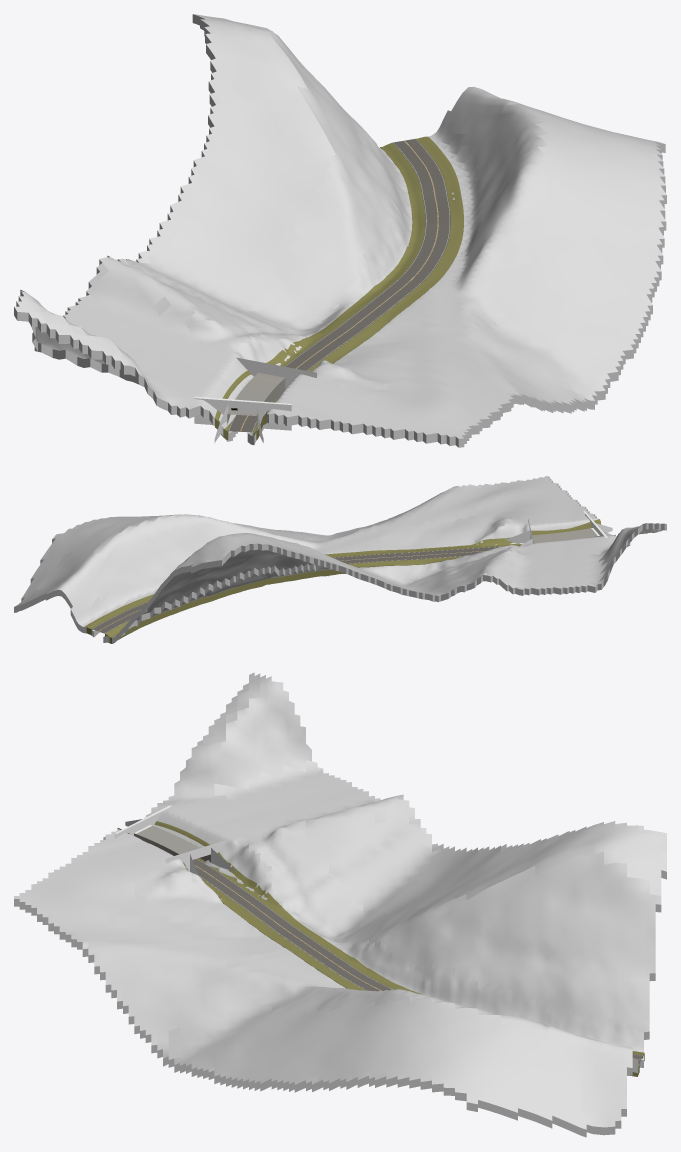
The model's file is conz_34.glb.
The picture shows the model from 3 angles, top to bottom: view 1: azimuth 30°, elevation 25°; view 2: azimuth 150°, elevation 25°; view 3: azimuth 270°, elevation 25°; orthographic projection. The views are drawn at different scales.
Visible parts, largest first — view 1: terrain34, road34, verge34R, verge34L, posts_upass34_21730, posts_upline34, posts_upass34_21700; view 2: terrain34, verge34R, verge34L, road34, posts_upline34, posts_upass34_21700, posts_upass34_21730; view 3: terrain34, road34, verge34R, verge34L, posts_upline34, posts_upass34_21700.
Part boxes in pixels (x1,y1,x2,y2): terrain34: [14, 14, 666, 447]; road34: [228, 138, 450, 432]; verge34R: [215, 143, 425, 439]; verge34L: [253, 136, 463, 440]; posts_upass34_21730: [194, 396, 291, 442]; posts_upline34: [227, 372, 285, 427]; posts_upass34_21700: [236, 357, 316, 388]; terrain34: [14, 476, 666, 643]; verge34R: [105, 556, 462, 643]; verge34L: [85, 519, 600, 635]; road34: [92, 545, 520, 633]; posts_upline34: [530, 528, 599, 543]; posts_upass34_21700: [505, 519, 534, 546]; posts_upass34_21730: [583, 511, 616, 537]; terrain34: [14, 672, 666, 1137]; road34: [192, 859, 642, 1064]; verge34R: [144, 818, 644, 1061]; verge34L: [117, 828, 639, 1076]; posts_upline34: [134, 825, 210, 862]; posts_upass34_21700: [165, 839, 235, 875].
Bounding box in the file's own units: 272 × 73.48 × 228.
